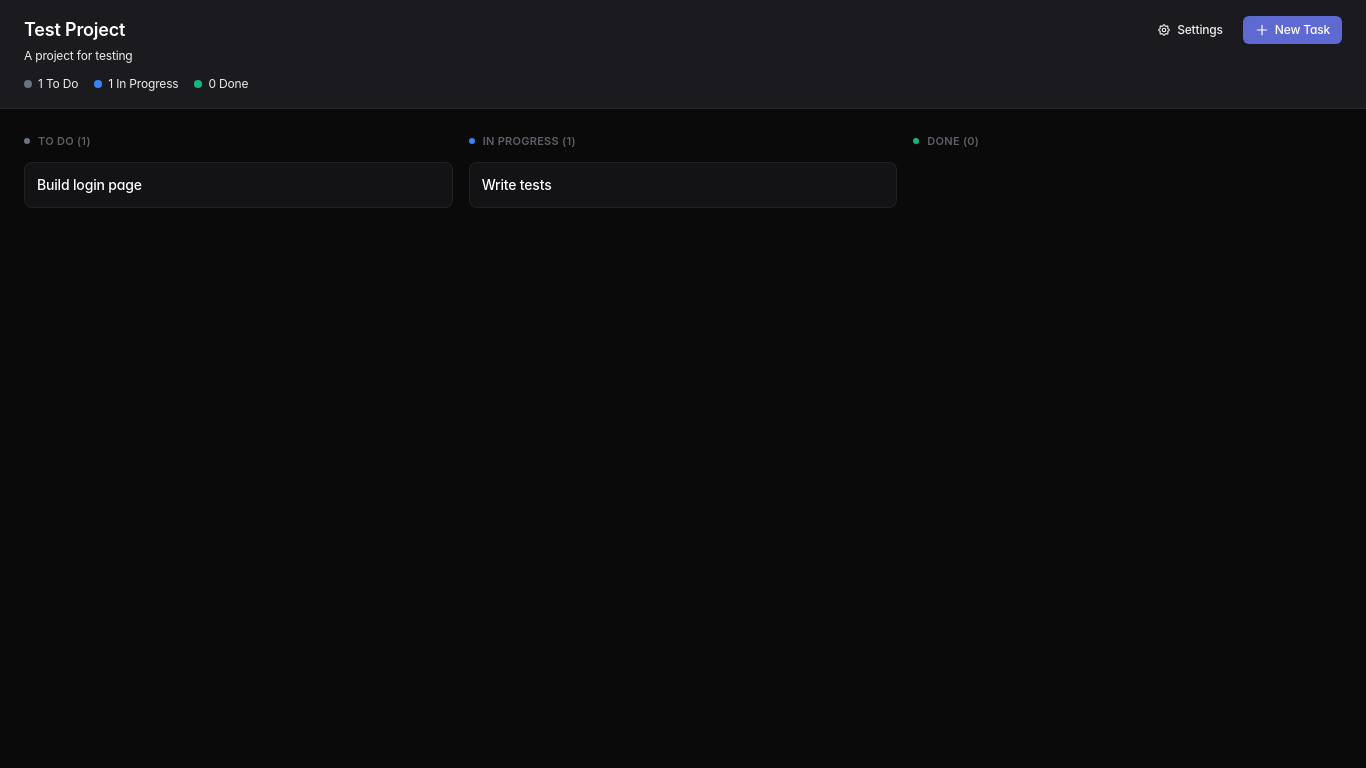
Scenario: ProjectDetail › opens new task modal on New Task click
The width and height of the screenshot is (1366, 768).
Expected: the heading "Test Project" is shown, left=24, top=16, right=132, bottom=44
Click the button "New Task" at coordinates (1292, 30), box left=1243, top=16, right=1342, bottom=44
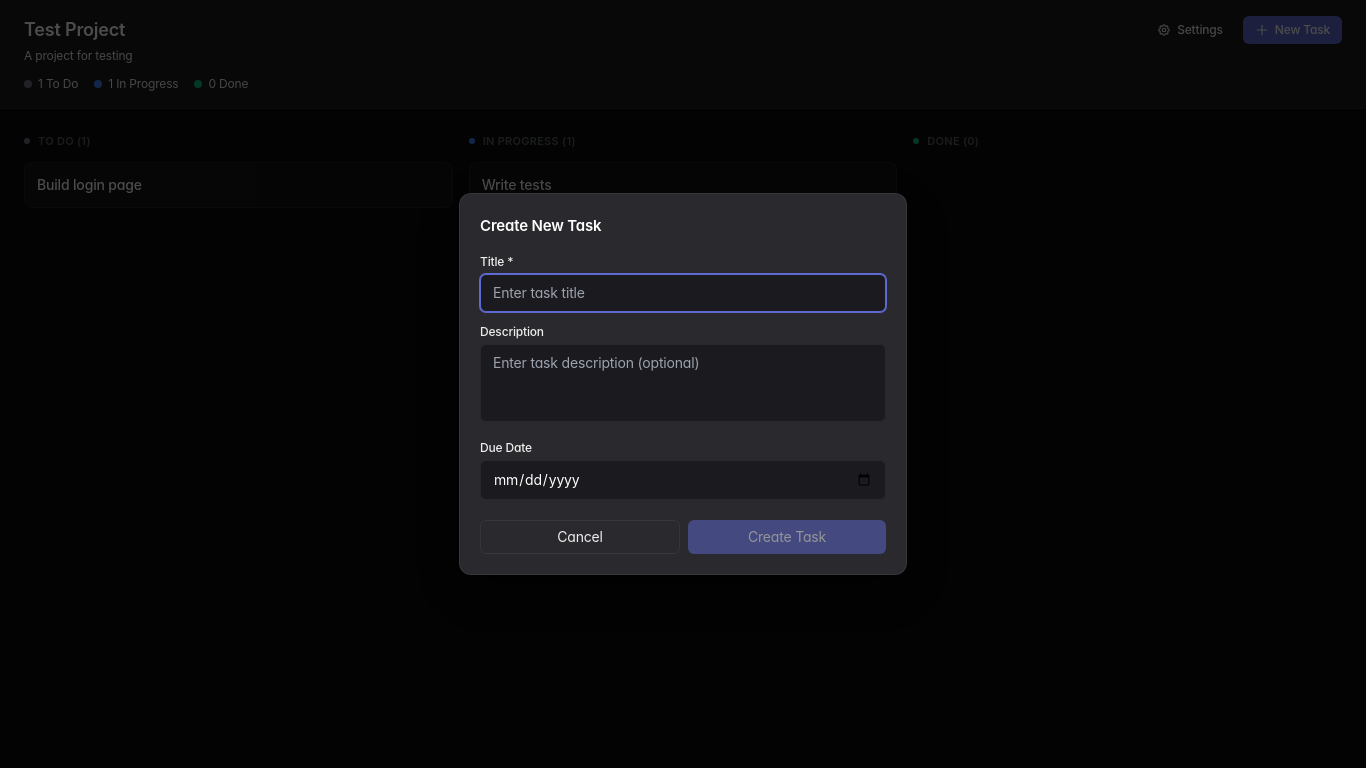
Result: the field with placeholder "Enter task title" is shown at left=480, top=274, right=886, bottom=312
